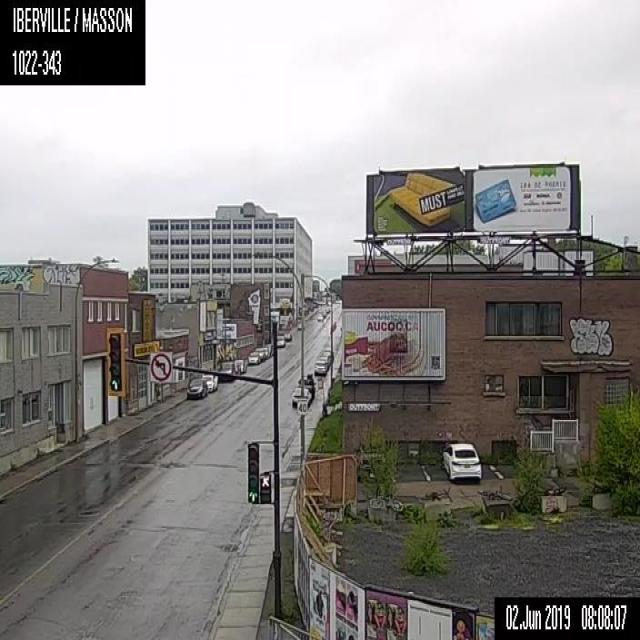vehicle: (441, 442, 484, 482), (185, 377, 207, 400), (214, 360, 236, 381), (290, 387, 312, 408), (297, 372, 314, 398), (202, 373, 218, 391), (312, 359, 326, 375), (233, 358, 246, 374), (247, 351, 260, 365), (322, 347, 334, 362), (254, 348, 264, 360), (318, 355, 330, 365), (274, 337, 284, 348), (282, 331, 293, 341), (266, 343, 274, 355), (261, 346, 269, 356), (296, 320, 304, 330), (316, 312, 324, 321), (321, 310, 326, 317), (325, 307, 329, 313)
